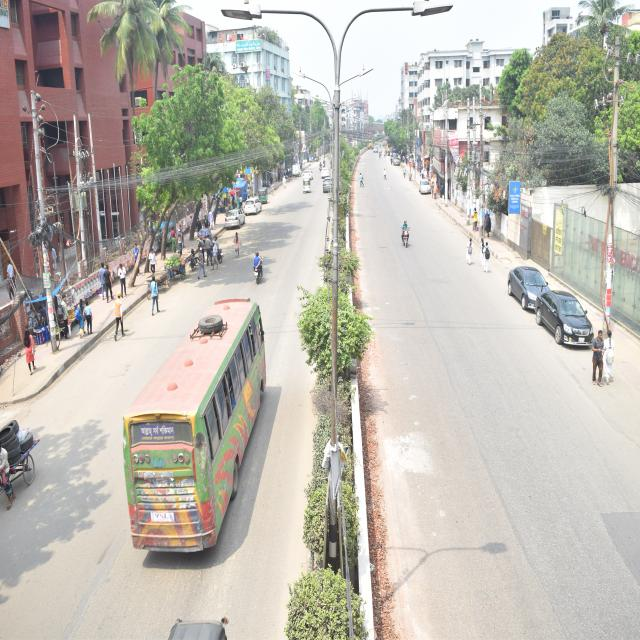bus: (109, 294, 274, 580)
car: (530, 292, 602, 370), (488, 244, 556, 324), (412, 171, 439, 206), (319, 170, 340, 202), (244, 194, 270, 219), (225, 208, 251, 231), (304, 170, 320, 181), (373, 143, 381, 156)
motorbike: (387, 207, 421, 270), (203, 222, 229, 263), (248, 246, 267, 298), (182, 239, 198, 276), (318, 157, 322, 180)
pickup-van: (290, 162, 306, 183)
